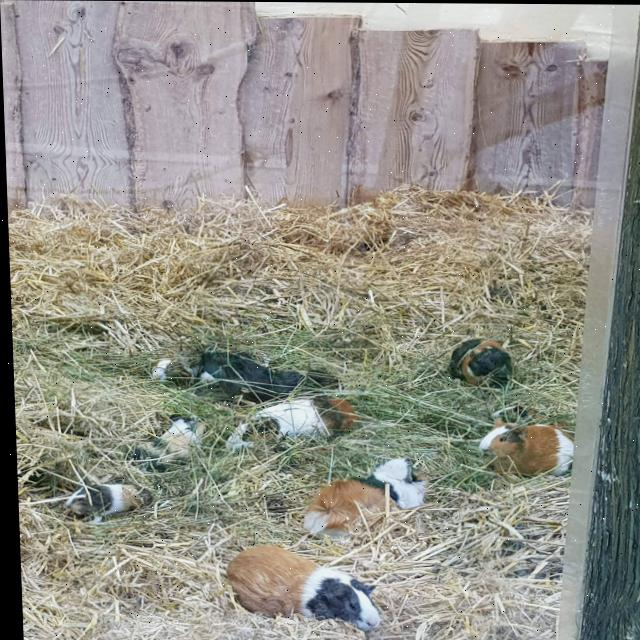guinea pig: (224, 545, 379, 631), (297, 454, 428, 548), (219, 393, 357, 456), (194, 349, 329, 401), (475, 417, 573, 479), (129, 411, 204, 472), (60, 480, 152, 524), (446, 336, 511, 387), (147, 352, 189, 387)
